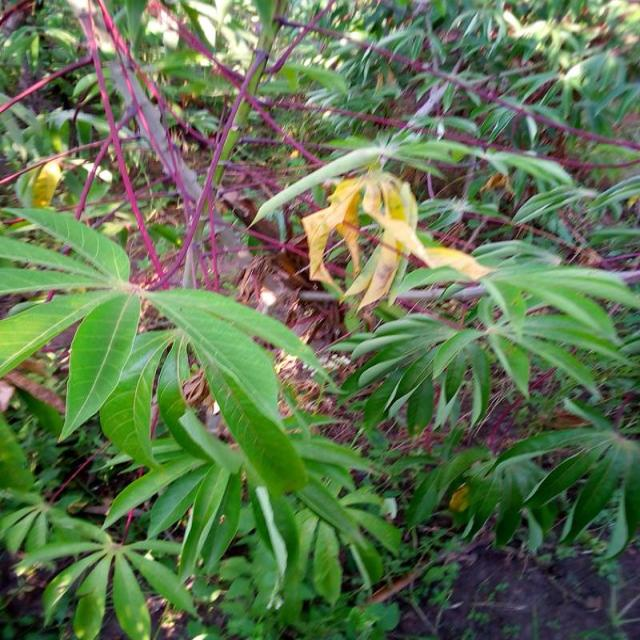cassava leaf: (143, 285, 312, 495), (58, 288, 142, 444)
